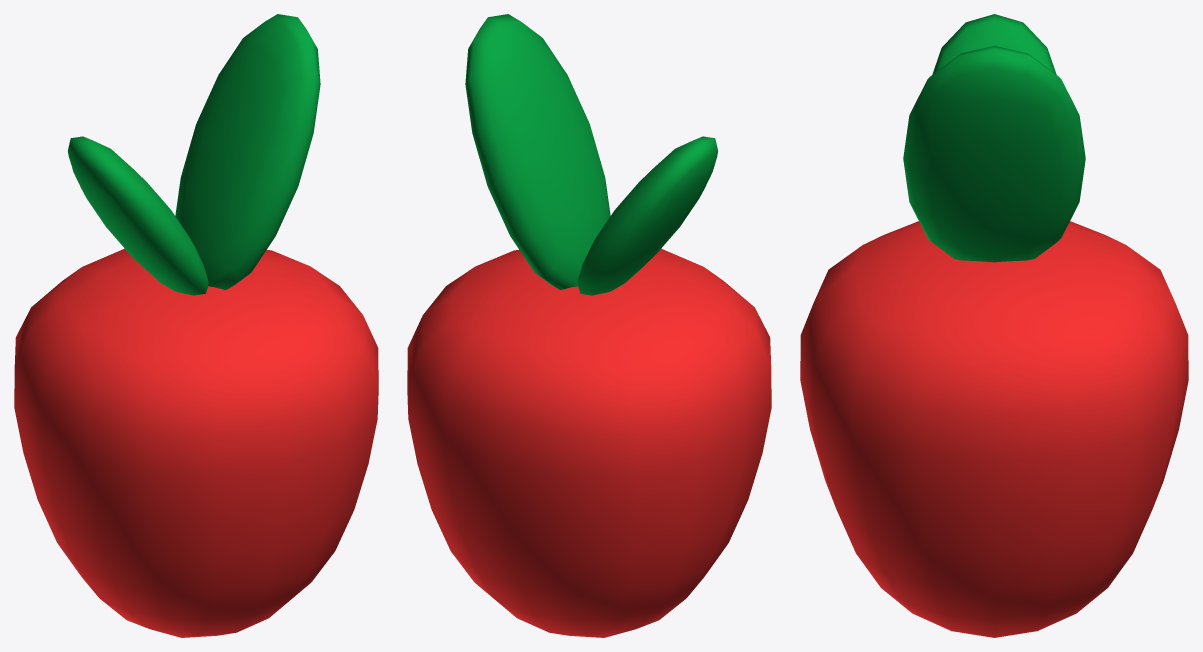
The model's file is Store_5_Strawberry_1.glb.
3 views of the same model, side by side, from view 1: azimuth 30°, elevation 25°; view 2: azimuth 150°, elevation 25°; view 3: azimuth 270°, elevation 25° (orthographic). The views are drawn at different scales.
Parts seen in each view (by area): view 1: Store_5_Strawberry_1; view 2: Store_5_Strawberry_1; view 3: Store_5_Strawberry_1.
Boxes of the visible parts, bbox=[...] form: Store_5_Strawberry_1: bbox=[14, 14, 378, 637]; Store_5_Strawberry_1: bbox=[407, 14, 771, 637]; Store_5_Strawberry_1: bbox=[800, 14, 1188, 637].
Bounding box in the file's own units: 0.5361 × 0.9566 × 0.536.
Materials: 1 (1 with a texture image).
